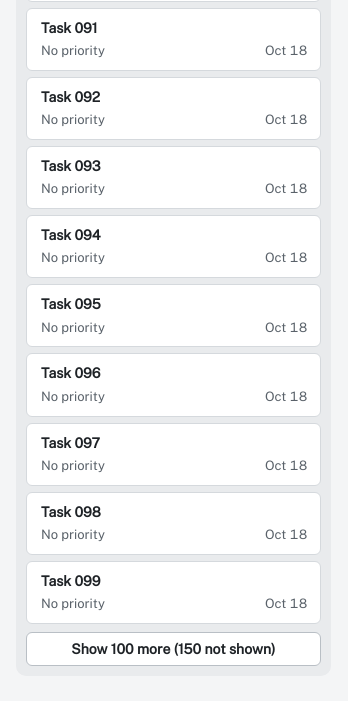
Test: Board › renders long columns in steps of 100 cards
(page scrolled)
Step 1. Click the button "Show 100 more (150 not shown)" → point(173, 649), box [26,632,321,666]
(page scrolled)
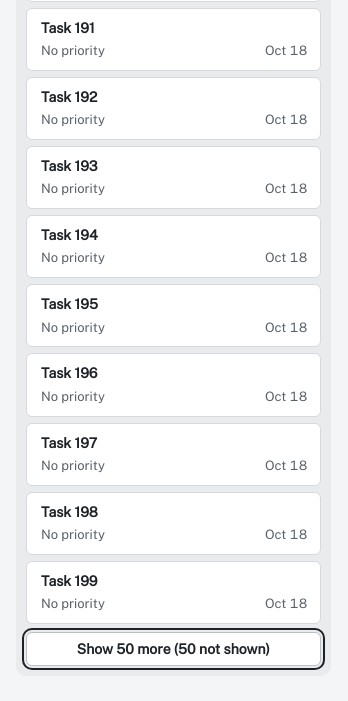
Step 2. Click the button "Show 50 more (50 not shown)" → point(173, 649), box [26,632,321,666]
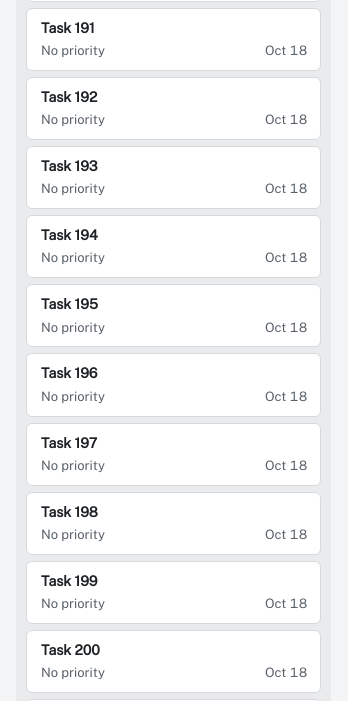
Expected: the button "more" is gone
